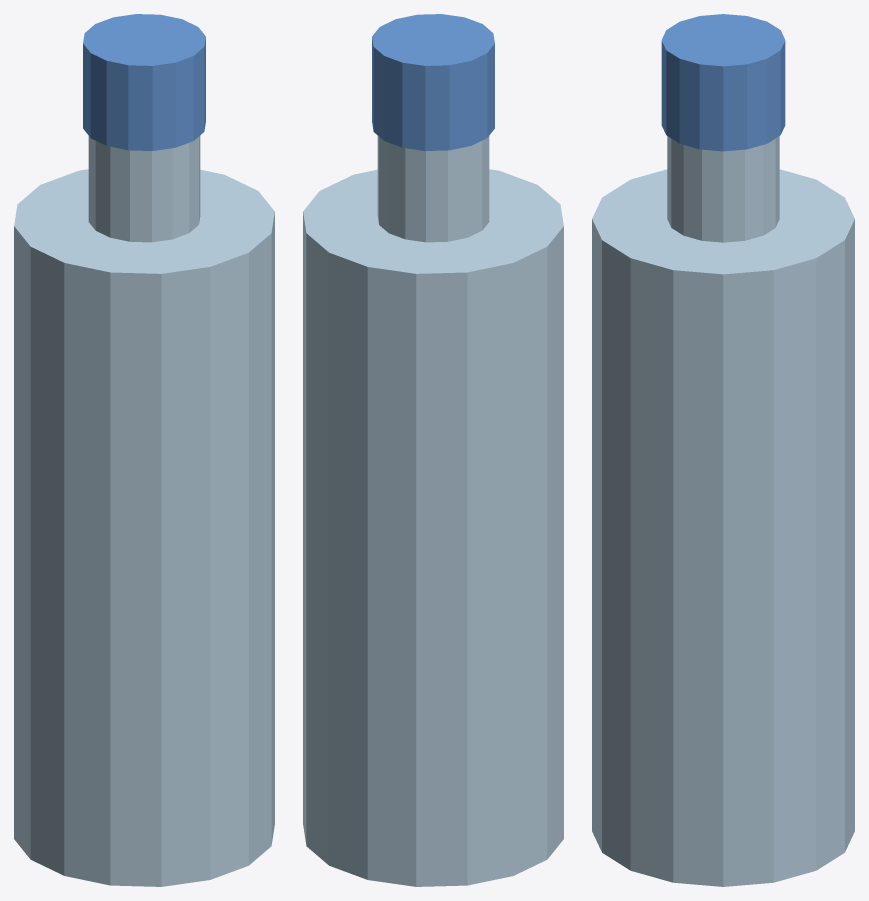
File: water_bottle.glb
3 views of the same model, side by side, from view 1: azimuth 30°, elevation 25°; view 2: azimuth 150°, elevation 25°; view 3: azimuth 270°, elevation 25° (orthographic).
Visible parts, largest first — view 1: bottle_body, bottle_cap, bottle_neck; view 2: bottle_body, bottle_cap, bottle_neck; view 3: bottle_body, bottle_cap, bottle_neck.
Part boxes in pixels (bbox=[...]): bottle_body: bbox=[14, 169, 274, 886]; bottle_cap: bbox=[83, 14, 205, 150]; bottle_neck: bbox=[88, 136, 200, 242]; bottle_body: bbox=[303, 169, 563, 886]; bottle_cap: bbox=[372, 14, 494, 150]; bottle_neck: bbox=[377, 136, 489, 242]; bottle_body: bbox=[592, 169, 854, 886]; bottle_cap: bbox=[661, 14, 785, 151]; bottle_neck: bbox=[667, 136, 779, 242].
Size of the model in its own units: 0.14 by 0.465 by 0.14.
